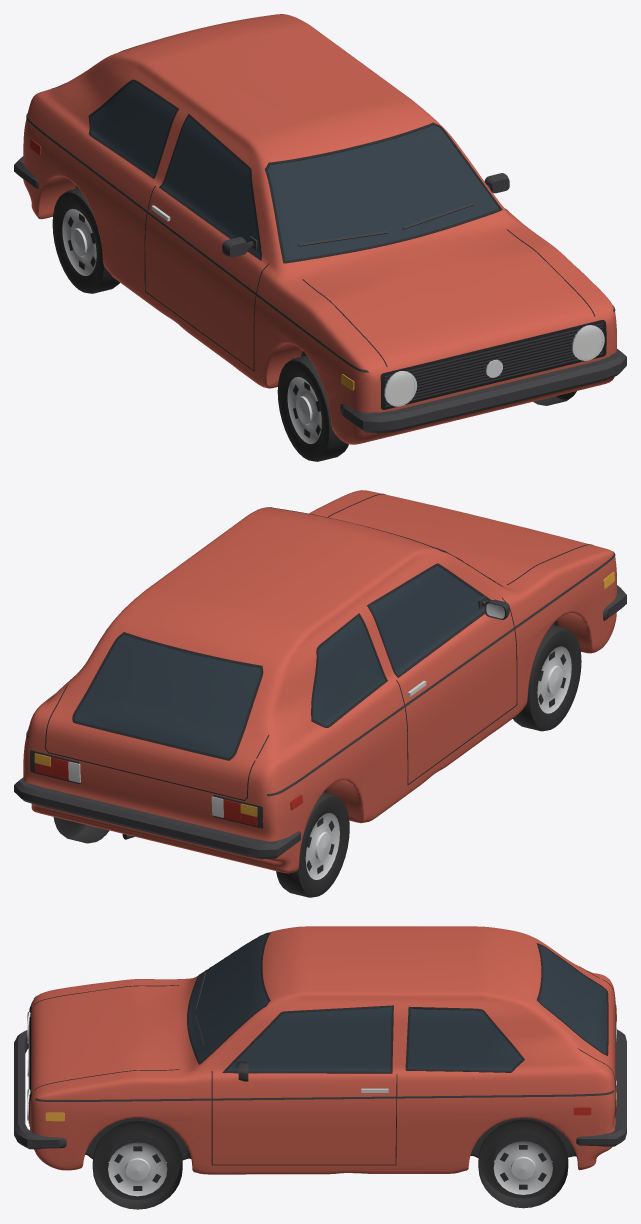
The model's file is golf1.glb.
3 renders of one model, top to bottom at view 1: azimuth 30°, elevation 25°; view 2: azimuth 150°, elevation 25°; view 3: azimuth 270°, elevation 25°, orthographic. The views are drawn at different scales.
Visible parts, largest first — view 1: paint, glass, trim, wheel_fr, wheel_rr, headlights, mirrors; view 2: paint, glass, trim, wheel_fr, wheel_rr, taillights, wheel_rl; view 3: paint, glass, trim, wheel_rl, wheel_fl.
Boxes of the visible parts, <box> form: paint: <box>23,14,616,444</box>; glass: <box>90,82,498,260</box>; trim: <box>14,44,626,433</box>; wheel_fr: <box>277,355,348,461</box>; wheel_rr: <box>52,188,119,293</box>; headlights: <box>387,328,602,403</box>; mirrors: <box>222,173,509,257</box>; paint: <box>23,490,616,873</box>; glass: <box>75,566,488,757</box>; trim: <box>14,493,626,859</box>; wheel_fr: <box>513,625,581,731</box>; wheel_rr: <box>276,792,349,897</box>; taillights: <box>34,757,302,826</box>; wheel_rl: <box>53,817,109,843</box>; paint: <box>29,926,615,1174</box>; glass: <box>189,934,606,1071</box>; trim: <box>14,932,626,1165</box>; wheel_rl: <box>478,1119,568,1208</box>; wheel_fl: <box>92,1121,182,1209</box>.
Size of the model in its own units: 1.72 by 1.39 by 3.81.
